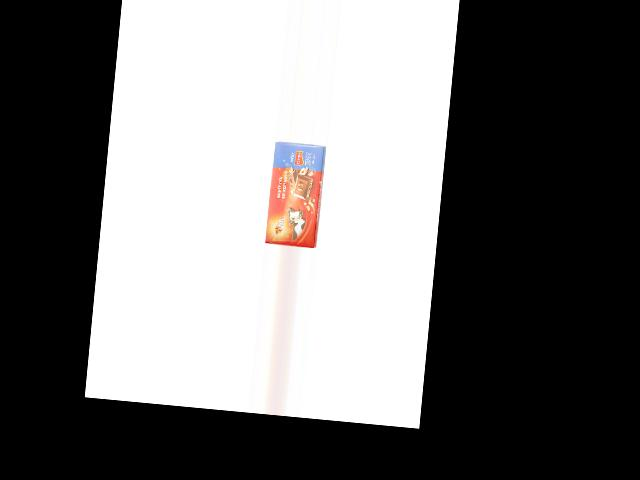chocolate: (265, 141, 325, 249)
